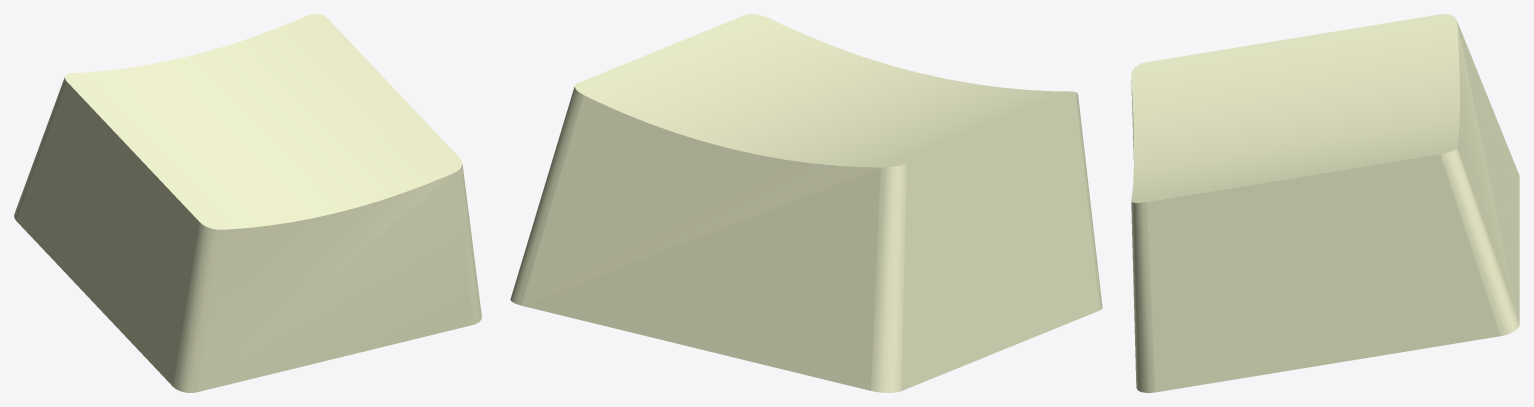
File: original-81.obj
3 views of the same model, side by side, from view 1: azimuth 30°, elevation 25°; view 2: azimuth 150°, elevation 25°; view 3: azimuth 270°, elevation 25° (orthographic). The views are drawn at different scales.
Parts seen in each view (by area): view 1: 组件_1_63/组件_1/mesh7/mesh7-geometry#mesh7-geometry; view 2: 组件_1_63/组件_1/mesh7/mesh7-geometry#mesh7-geometry; view 3: 组件_1_63/组件_1/mesh7/mesh7-geometry#mesh7-geometry.
Boxes of the visible parts, x1,y1,x2,y2 form: 组件_1_63/组件_1/mesh7/mesh7-geometry#mesh7-geometry: (14, 14, 481, 392); 组件_1_63/组件_1/mesh7/mesh7-geometry#mesh7-geometry: (510, 14, 1102, 392); 组件_1_63/组件_1/mesh7/mesh7-geometry#mesh7-geometry: (1131, 14, 1519, 392).
Size of the model in its own units: 0.0751 by 0.0489 by 0.0749.
